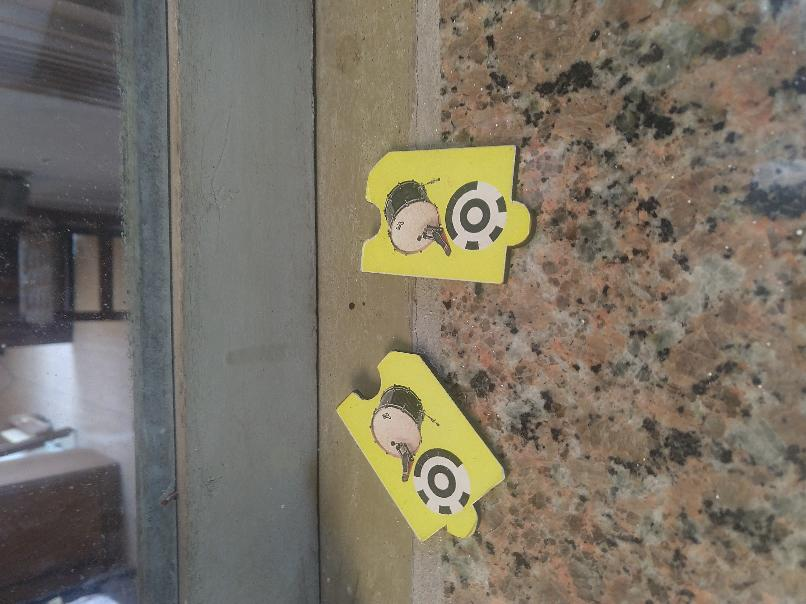bumbo: (335, 343, 506, 540), (352, 143, 539, 289)
